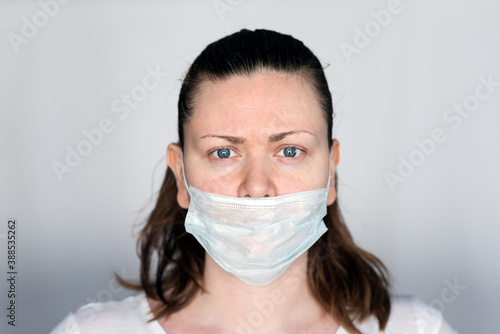nose_out: (167, 30, 342, 285)
